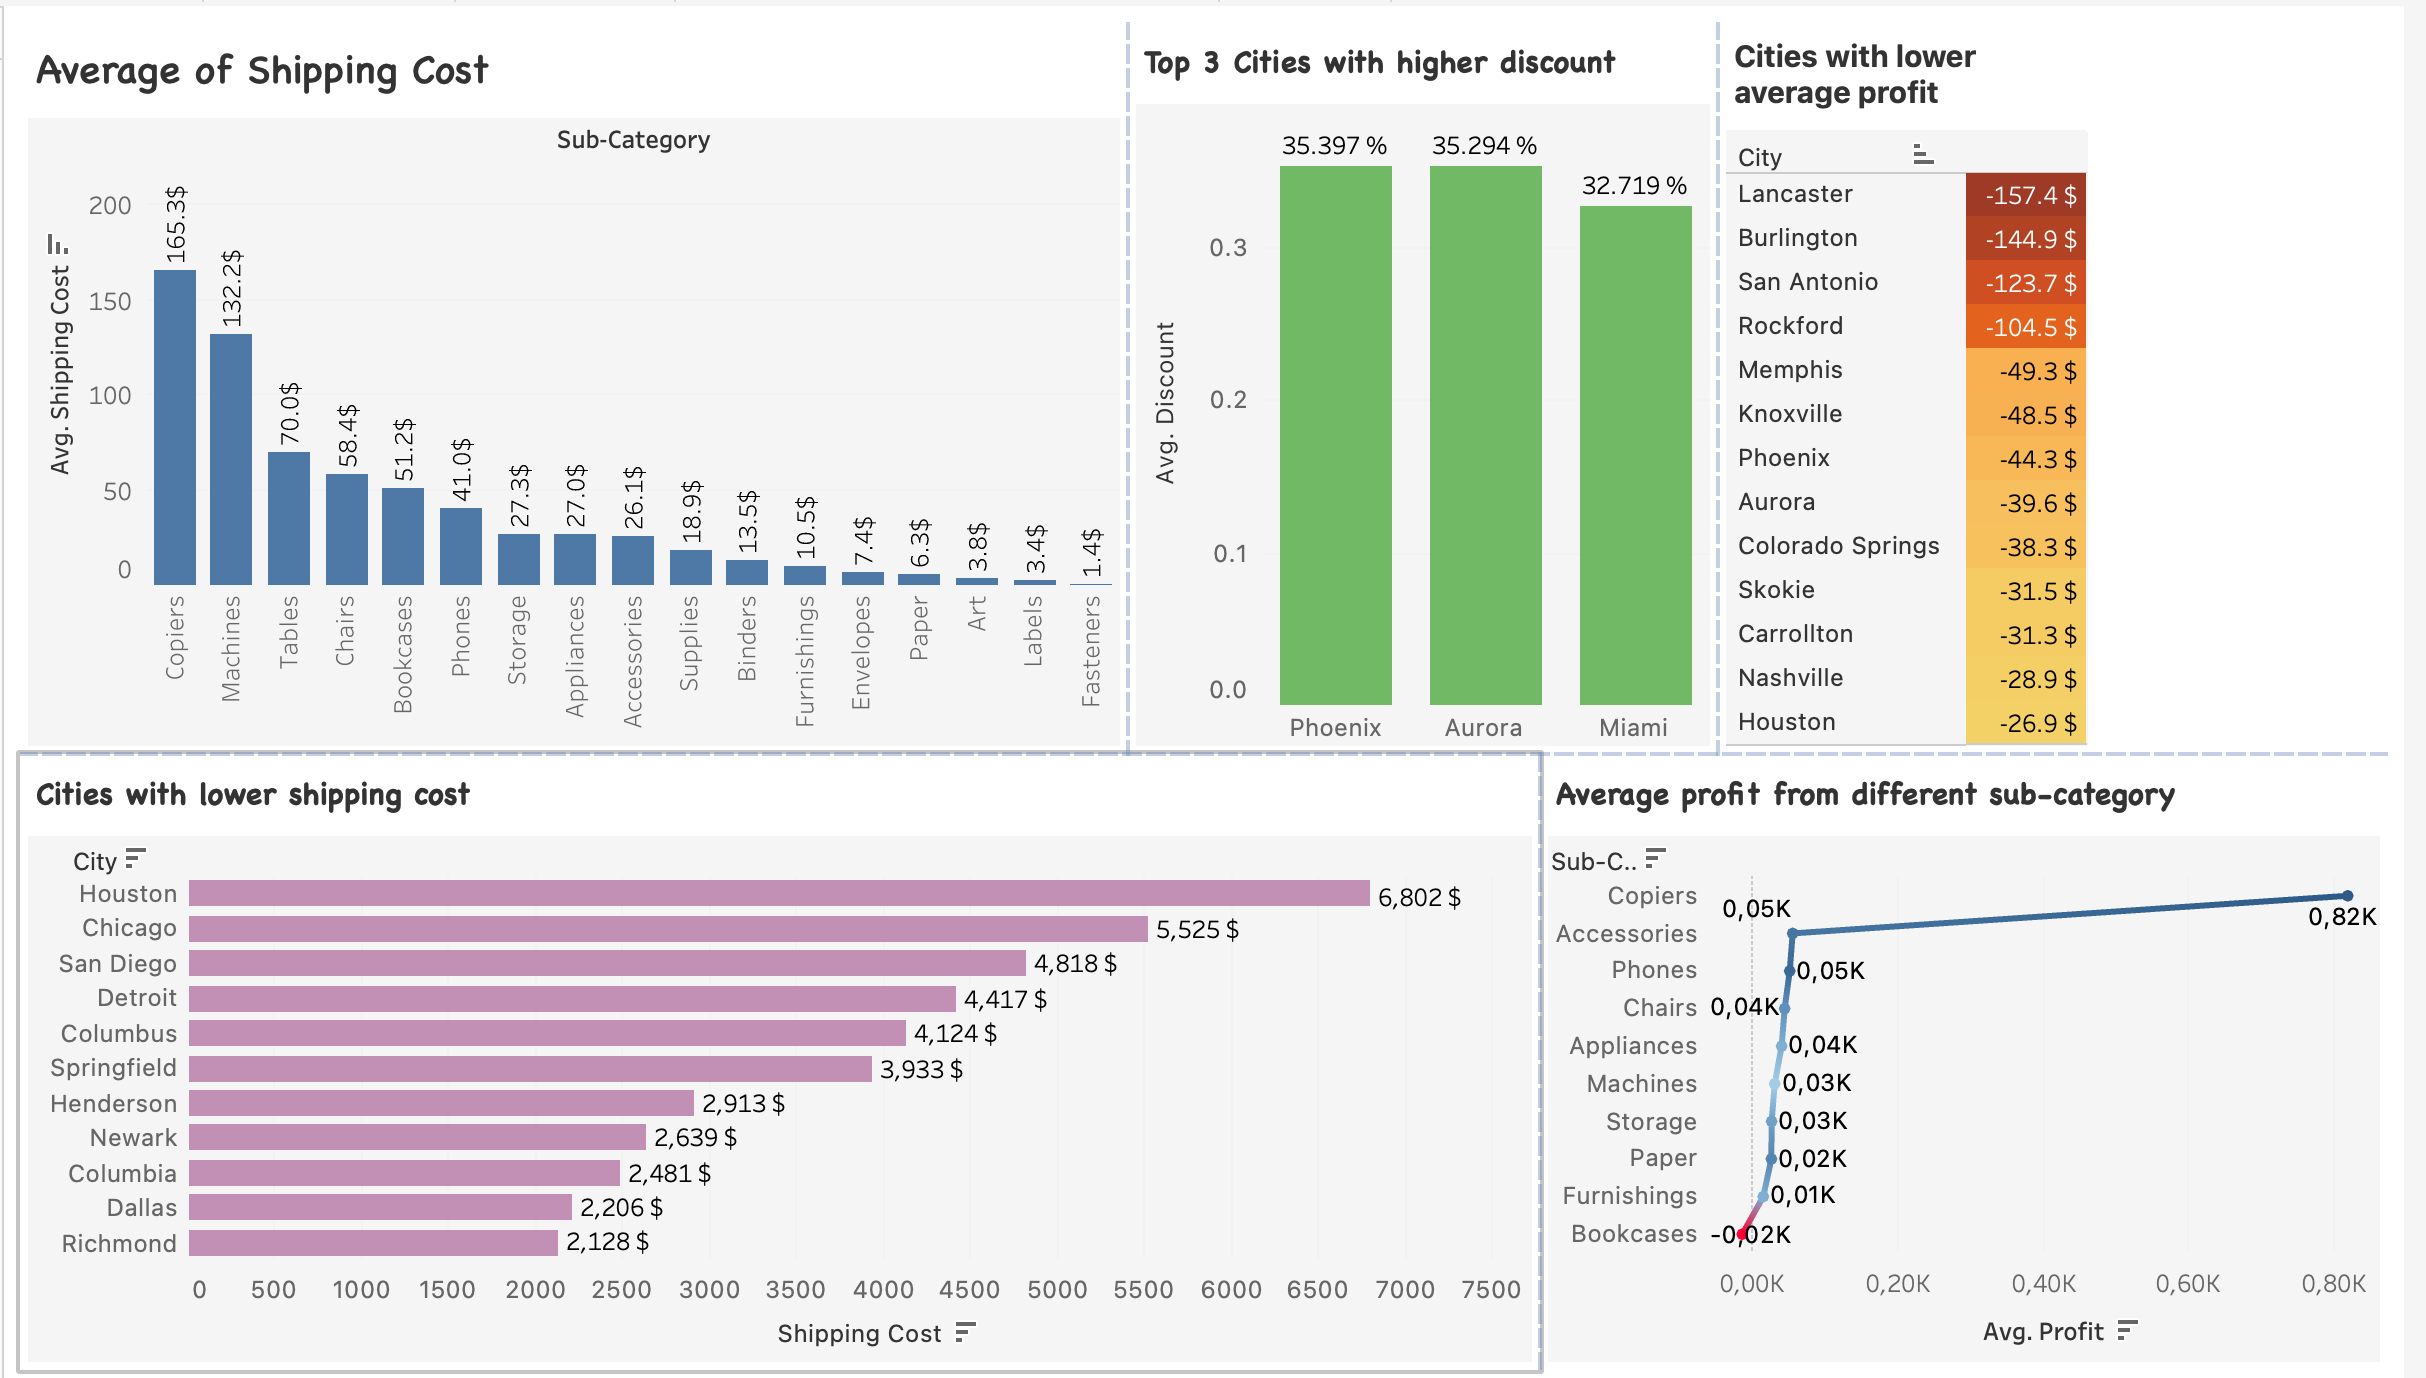

What the dashboard file says about the page in this screenshot:
{"tool":"tableau","page":{"name":"Dashboard 2","canvas":[1200,690],"ordinal":1},"visuals":[{"type":"worksheet","title":"Sheet 6","mark":"Automatic","rows":["Shipping Cost"],"cols":["Sub-Category"],"box":[8,8,554,366.2]},{"type":"worksheet","title":"5b-2","mark":"Automatic","rows":["Discount"],"cols":["City"],"box":[562,8,295.5,366.2]},{"type":"worksheet","title":"5-a","mark":"Square","rows":["City"],"box":[857.4,8,334.5,366.2]},{"type":"worksheet","title":"5b","mark":"Bar","rows":["City"],"cols":["Shipping Cost"],"box":[8,374.2,760.4,307.8]},{"type":"worksheet","title":"6-a","mark":"Line","rows":["Sub-Category"],"cols":["Profit"],"box":[768.4,374.2,423.6,307.8]}]}

Visuals, with their boxes in screenshot pixels (x1, y1, x2, y2), scaled from the page's 1200x690 canvas onto the 2426x1378 screenshot:
"Sheet 6" worksheet: 16, 16, 1136, 747
"5b-2" worksheet: 1136, 16, 1734, 747
"5-a" worksheet (Square marks): 1733, 16, 2410, 747
"5b" worksheet (Bar marks): 16, 747, 1553, 1362
"6-a" worksheet (Line marks): 1553, 747, 2410, 1362
